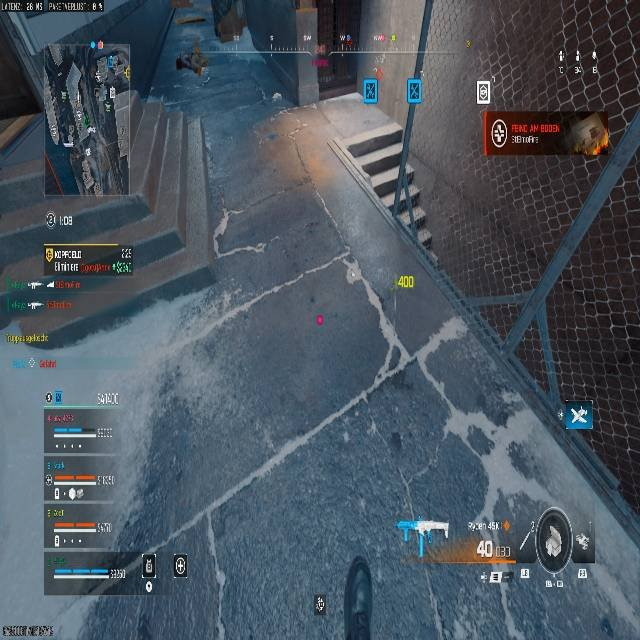player: (491, 506, 624, 639), (173, 44, 210, 77)
